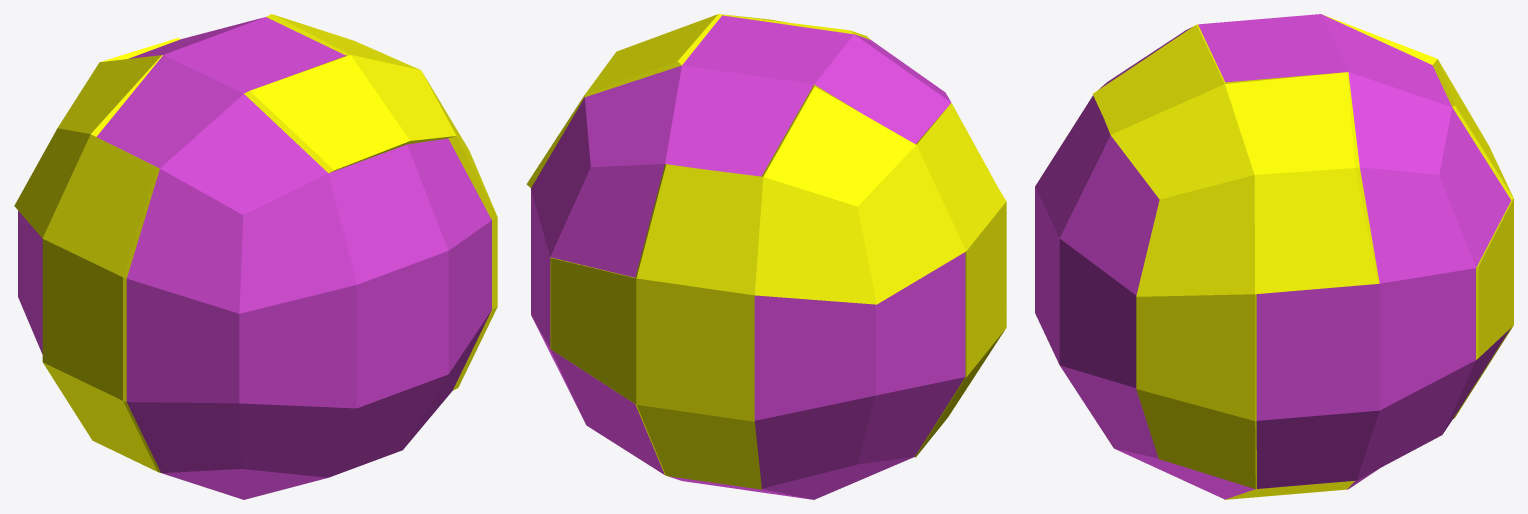
Rendered from Low Poly World.fbx.
3 views of the same model, side by side, from view 1: azimuth 30°, elevation 25°; view 2: azimuth 150°, elevation 25°; view 3: azimuth 270°, elevation 25° (orthographic). The views are drawn at different scales.
Visible parts, largest first — view 1: Low Poly World; view 2: Low Poly World; view 3: Low Poly World.
Boxes of the visible parts, x1=… form: Low Poly World: x1=14, y1=14, x2=497, y2=499; Low Poly World: x1=526, y1=14, x2=1006, y2=499; Low Poly World: x1=1035, y1=14, x2=1513, y2=499.
Size of the model in its own units: 337 by 322 by 333.
